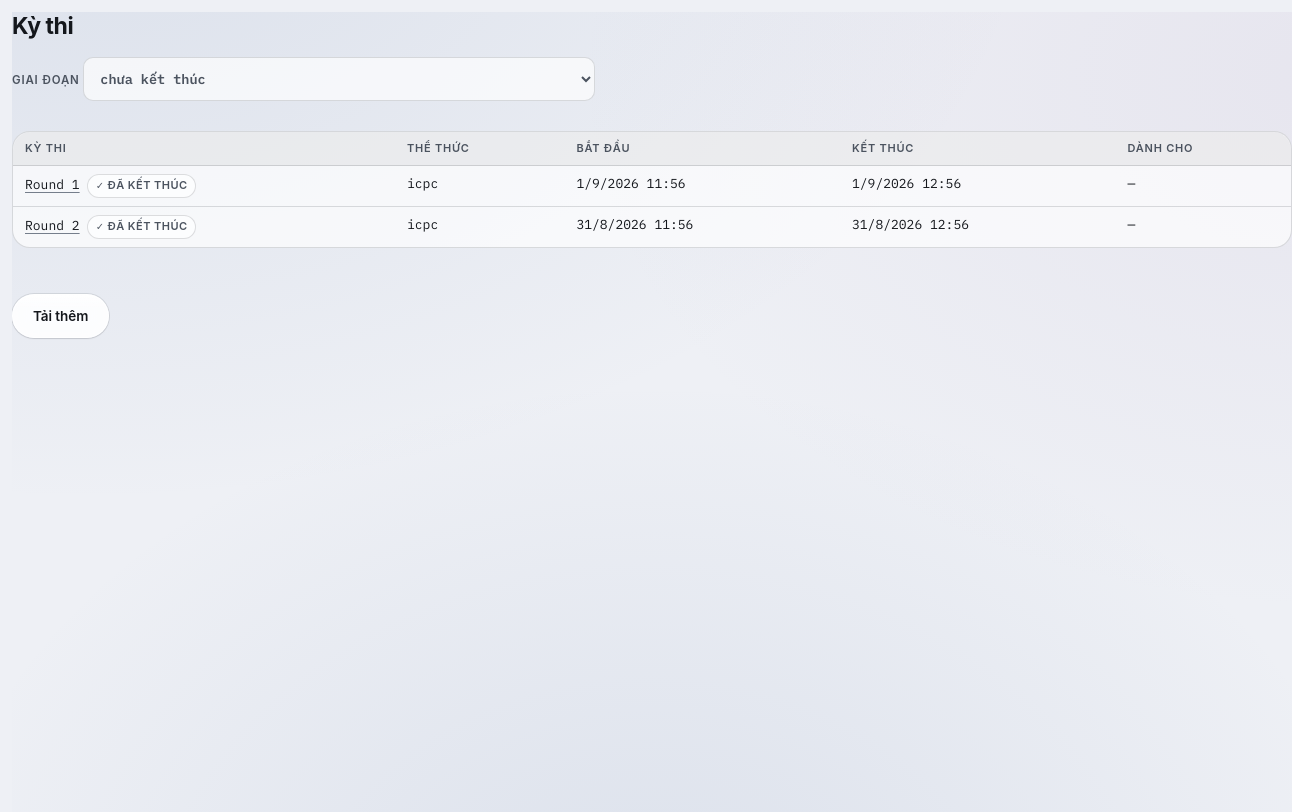
ContestsPage past one page (D180) › walks a phase page with D151’s composite cursor, and starts over when the filter changes
Check: the link "Round 1" is shown, box [25,176,80,193]
Click the button "Tải thêm" at (61, 316), box [12,294,109,338]
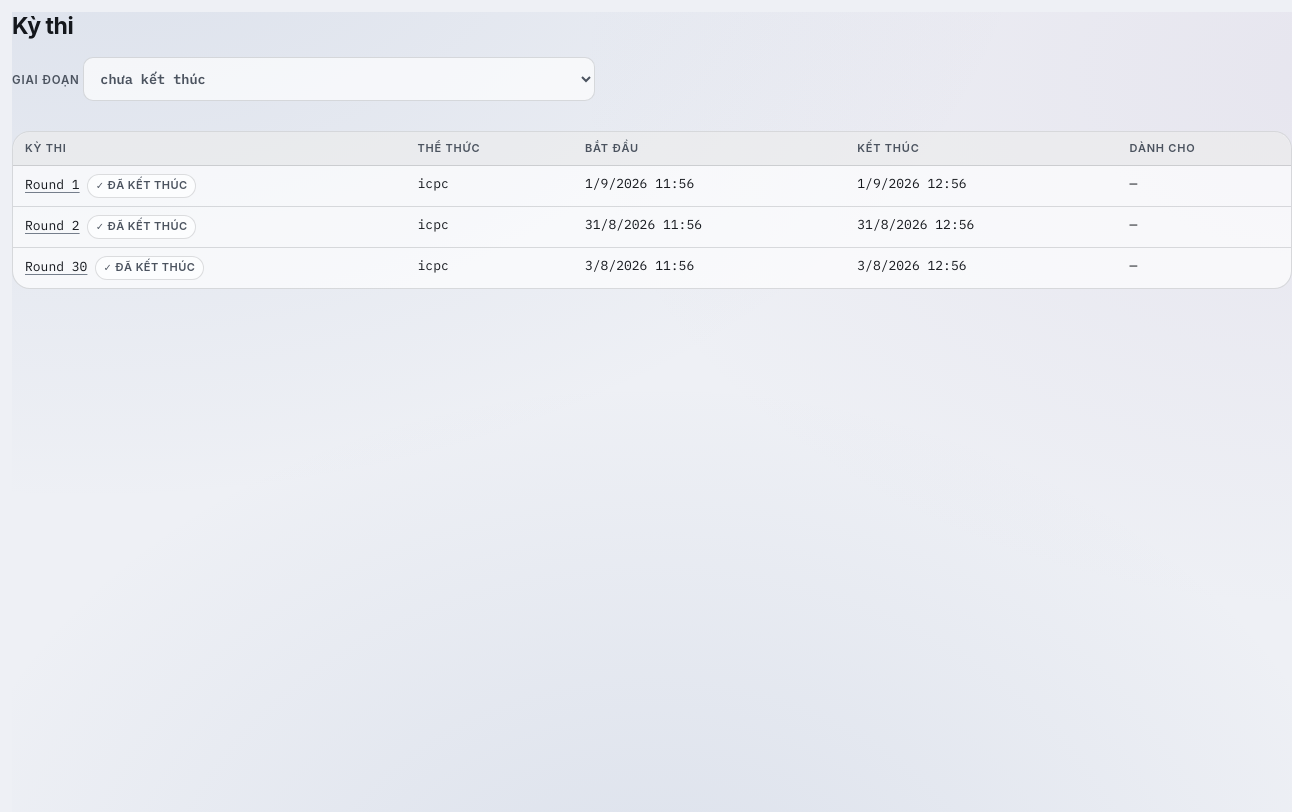
Check: the link "Round 30" is shown, box [25,258,87,275]
Select "Tất cả" in the dropdown labelled "Giai đoạn" at (339, 79), box [83,57,595,101]
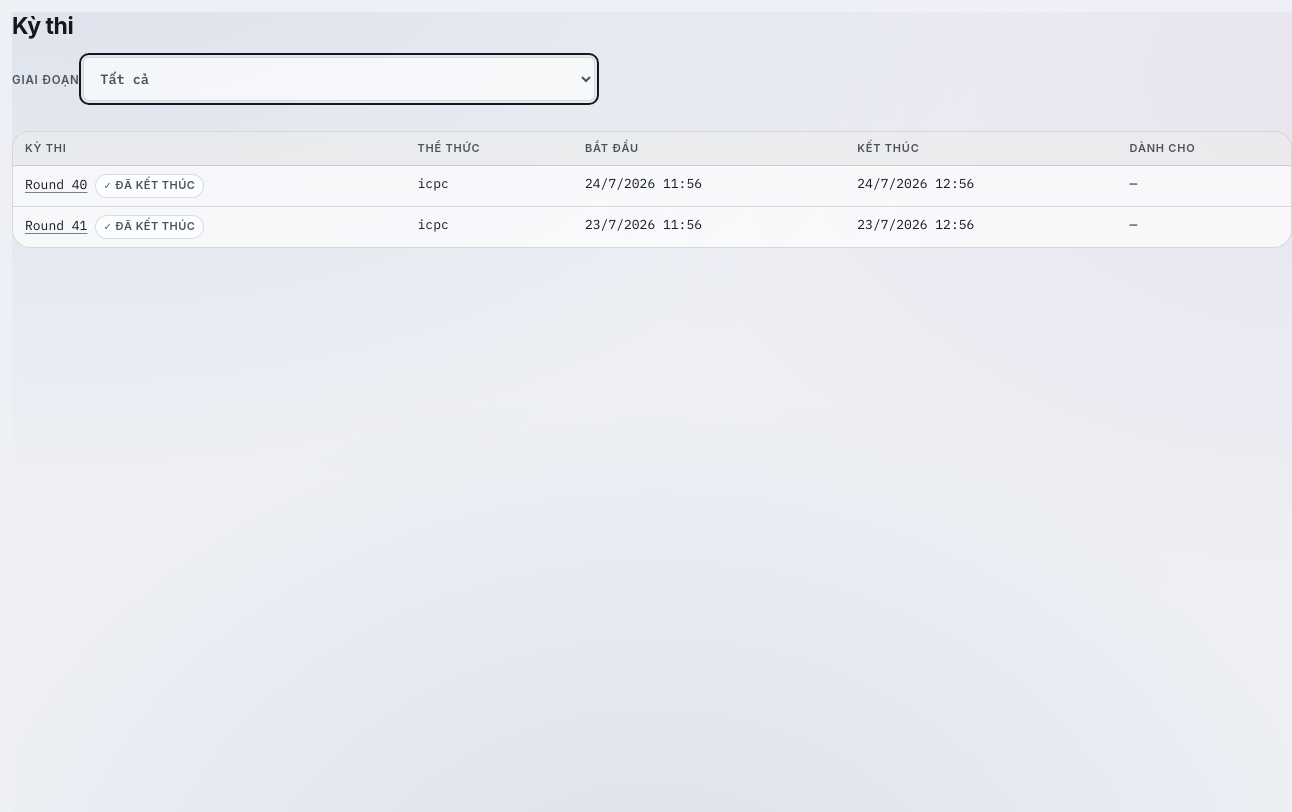
Check: the link "Round 40" is shown, box [25,176,87,193]
